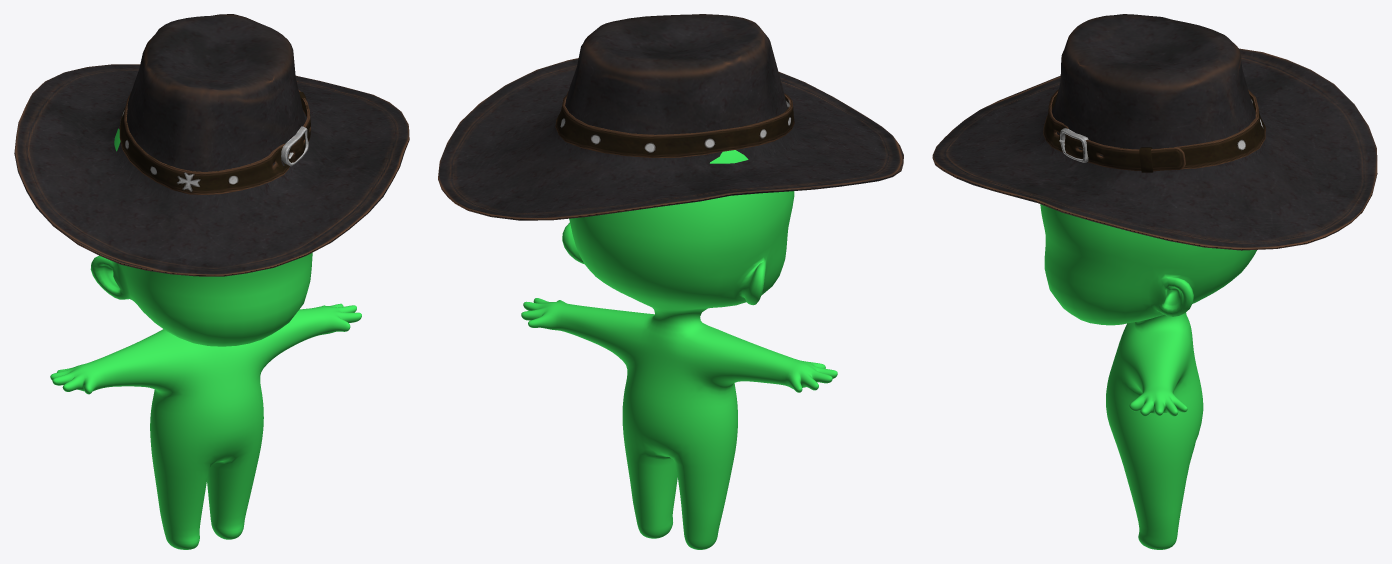
The model's file is cowboy pink.glb.
3 renders of one model, left to right at view 1: azimuth 30°, elevation 25°; view 2: azimuth 150°, elevation 25°; view 3: azimuth 270°, elevation 25°, orthographic.
Visible parts, largest first — view 1: Hat4_pasted__M_Hat_0, pCube35_lambert1_0.006; view 2: Hat4_pasted__M_Hat_0, pCube35_lambert1_0.006; view 3: Hat4_pasted__M_Hat_0, pCube35_lambert1_0.006.
Boxes of the visible parts, <box> form: Hat4_pasted__M_Hat_0: <box>14,14,409,276</box>; pCube35_lambert1_0.006: <box>50,128,361,549</box>; Hat4_pasted__M_Hat_0: <box>438,14,903,220</box>; pCube35_lambert1_0.006: <box>521,150,837,549</box>; Hat4_pasted__M_Hat_0: <box>932,14,1377,250</box>; pCube35_lambert1_0.006: <box>1040,204,1256,549</box>.
Bounding box in the file's own units: 2.12 × 2.67 × 2.17.
Materials: 2 (1 with a texture image).
